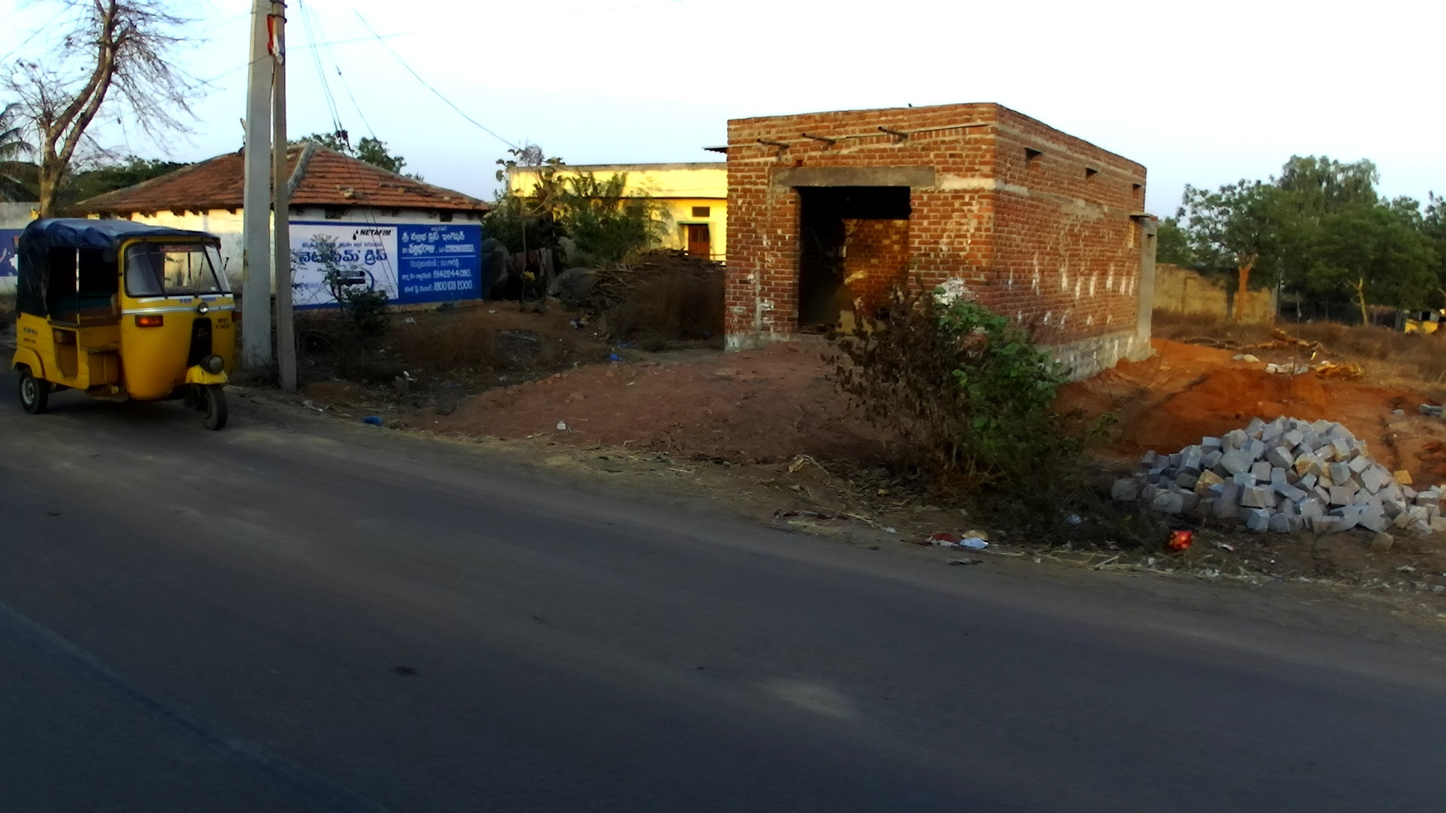autorickshaw: (8, 215, 238, 432)
